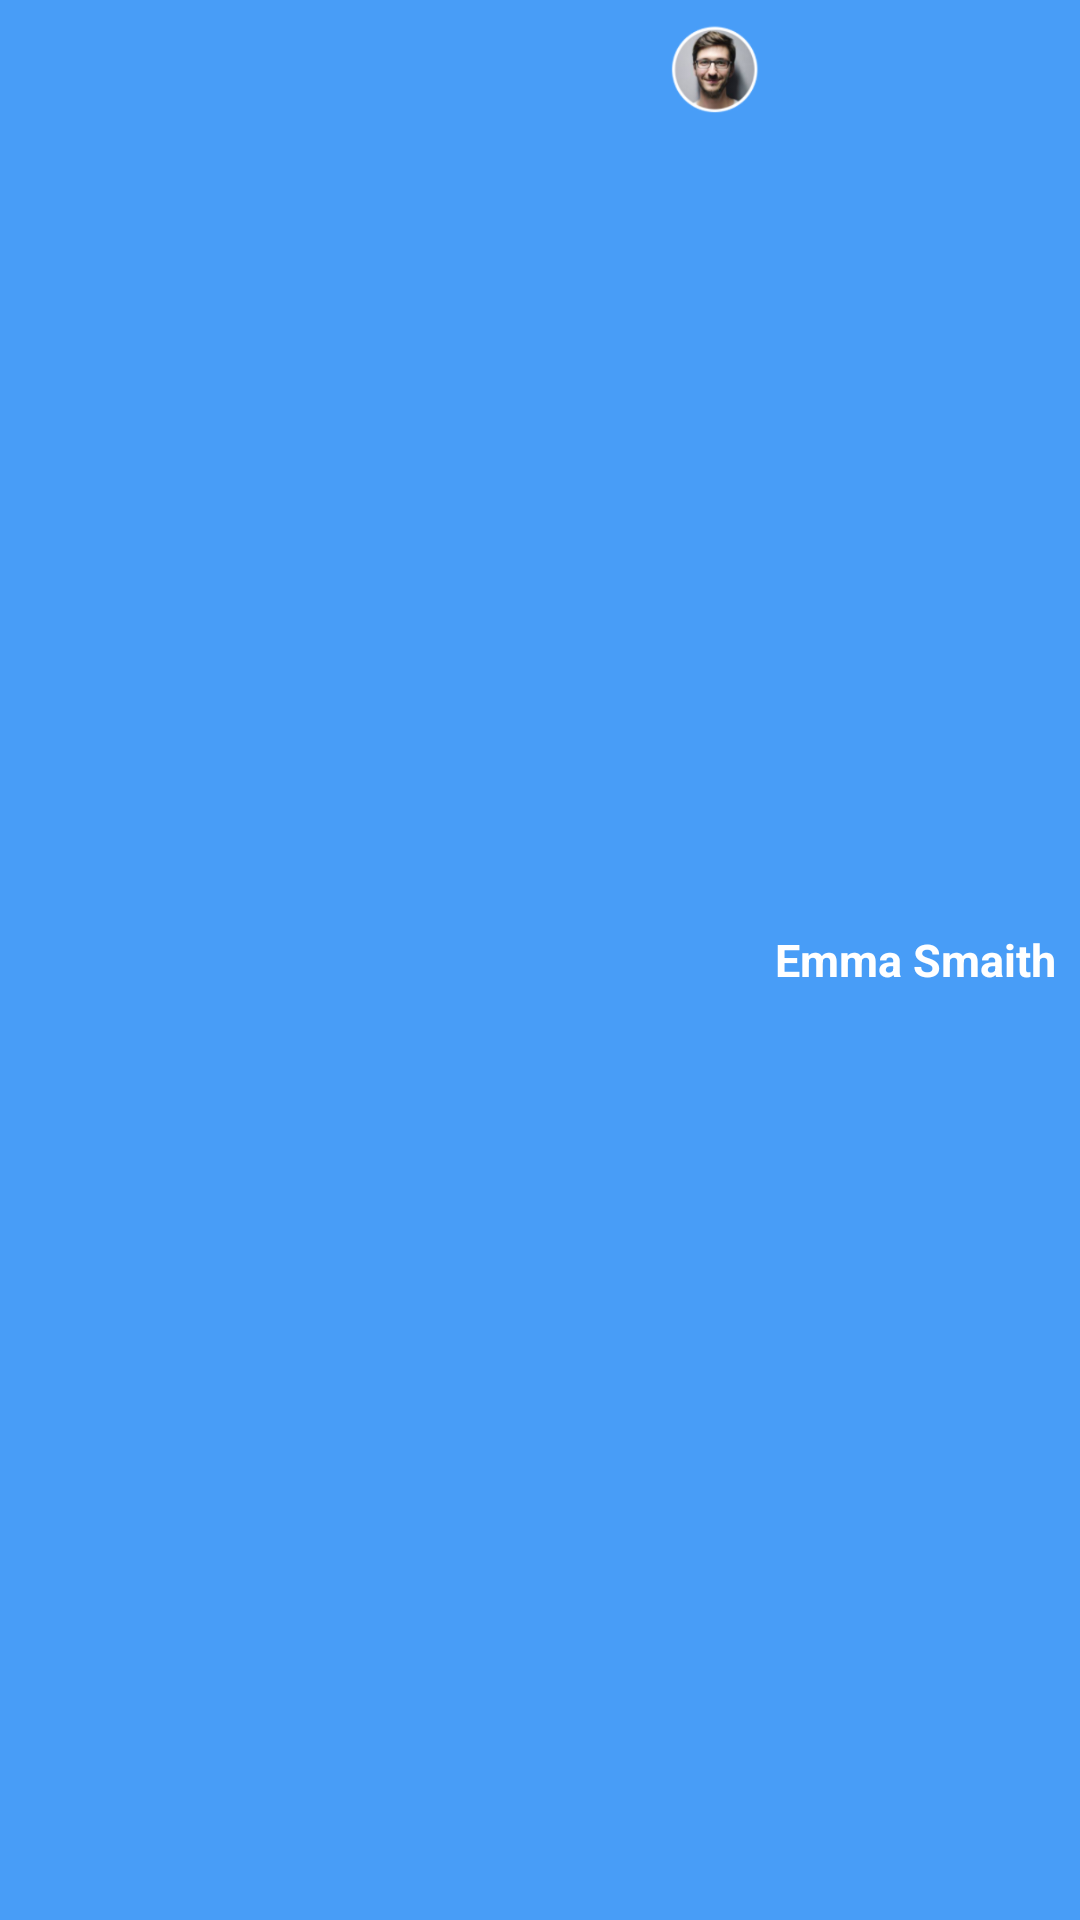

Icons on this 1080px x 1920px Android screen, each with the point to tap as [x,y]:
person: [715,69]
